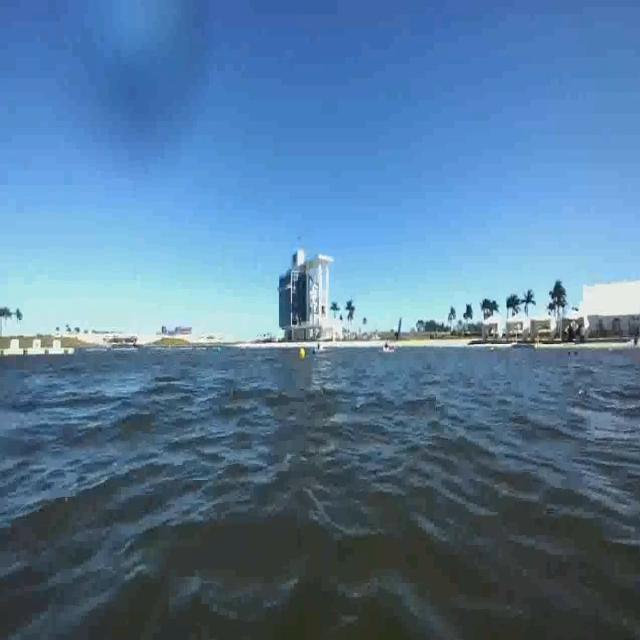yellow-buoy: (298, 346, 306, 362)
